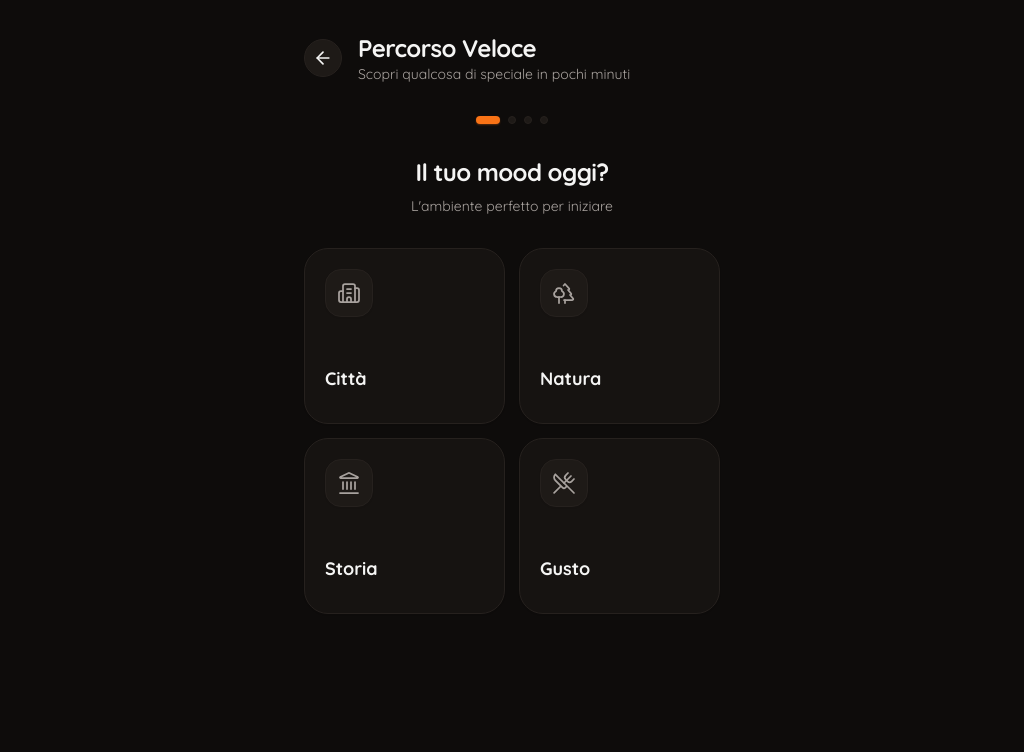
Test case: QuickPath — senza orari la card usa la somma delle soste (BORGO-SCHERMO: una sola durata per tutte le schermate) › Veloce, tappe senza scheduledTime → la somma (40 min), non QUICK_MINUTES.veloce
The image size is (1024, 752).
Click the button "Città": click(404, 336) [304,248,505,424]
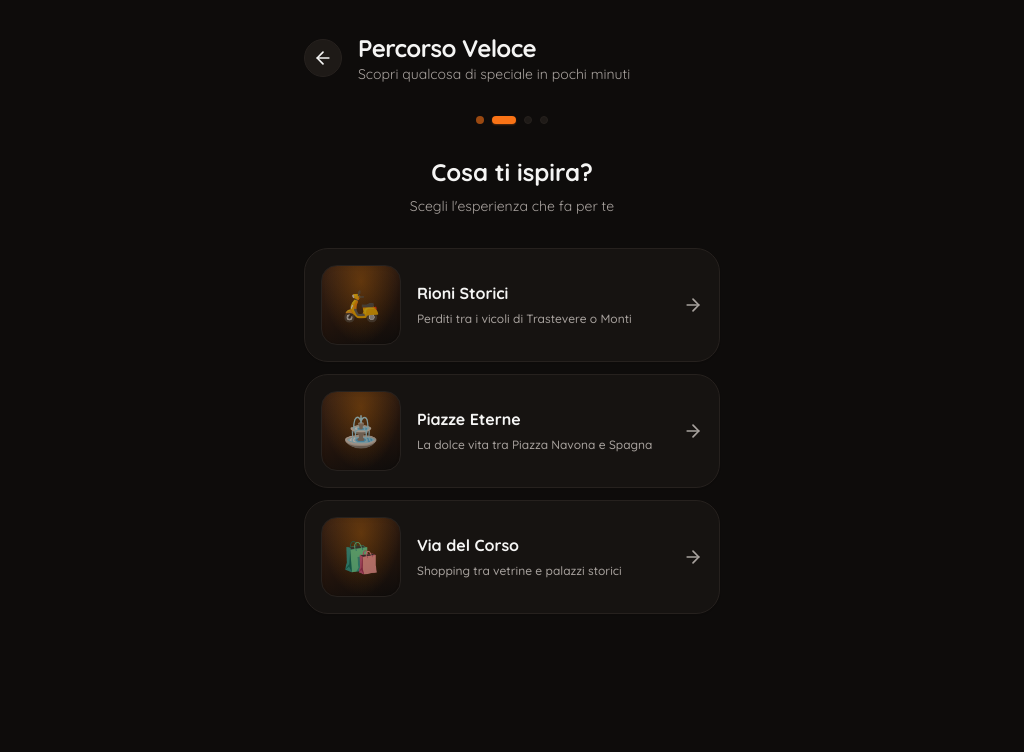
Click the button "Rioni Storici": click(361, 305) [304,248,720,362]
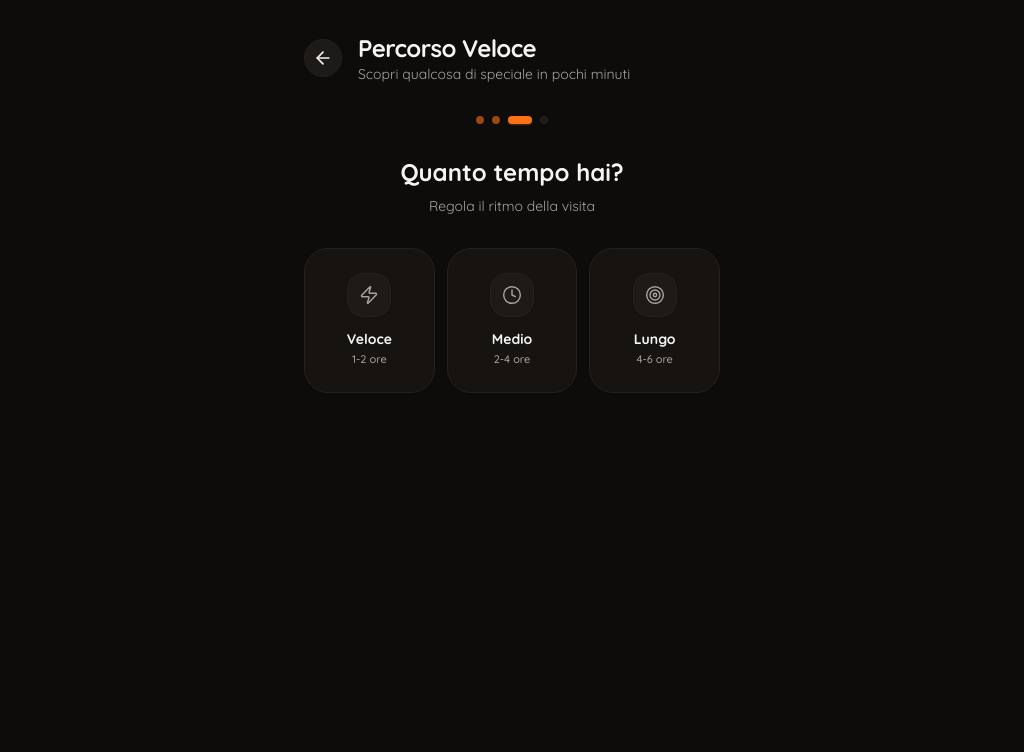
Click the button "Veloce 1-2 ore": click(369, 320) [304,248,435,392]
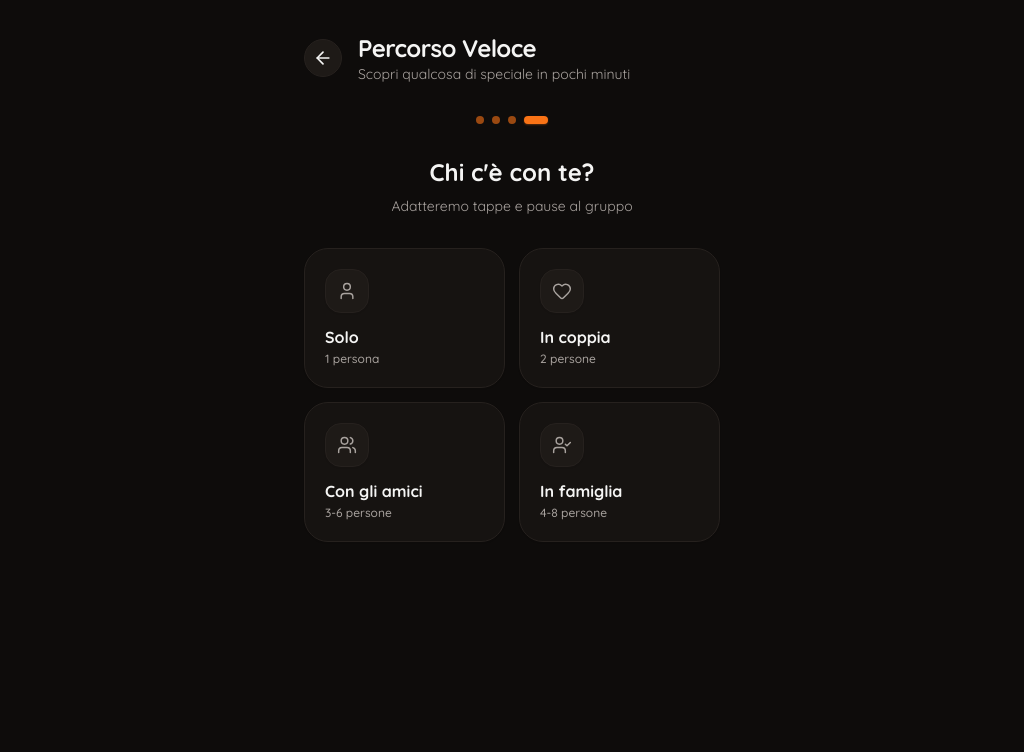
Click the button "Solo 1 persona": click(404, 318) [304,248,505,388]
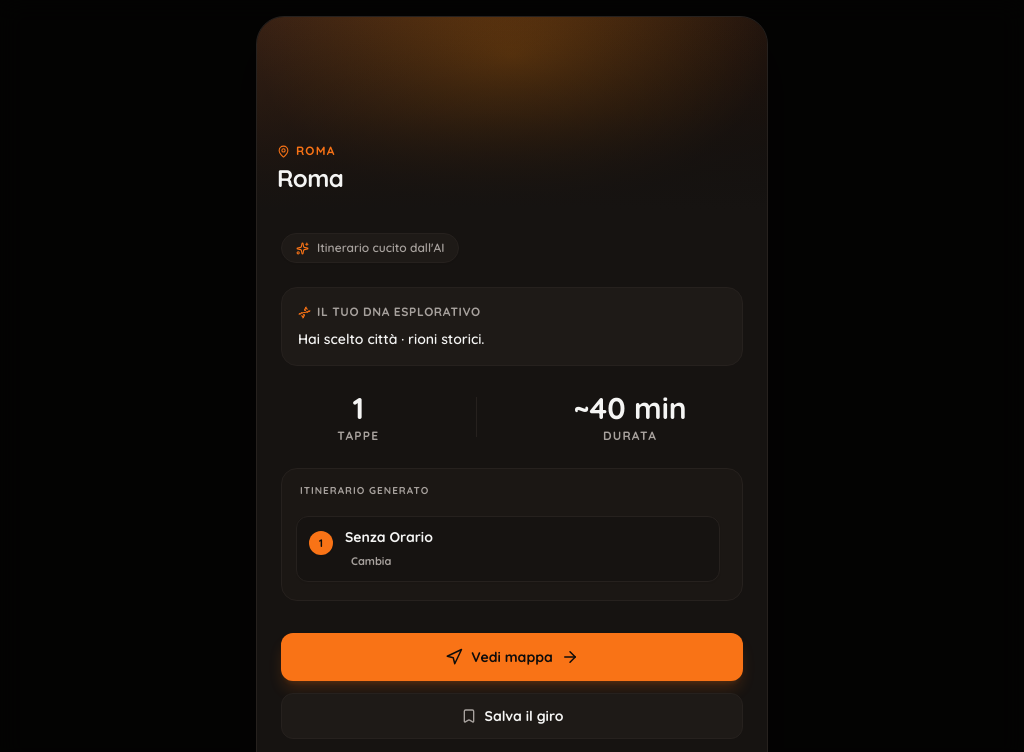
Check: the text "Senza Orario" is shown, box [345,529,433,547]
Check: the text "~40 min" is shown, box [573,390,687,426]
